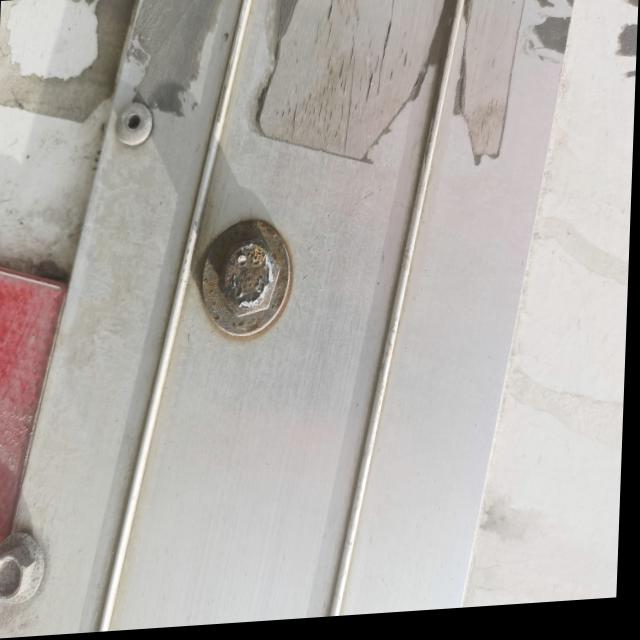Rusty bolt: (219, 239, 283, 322)
